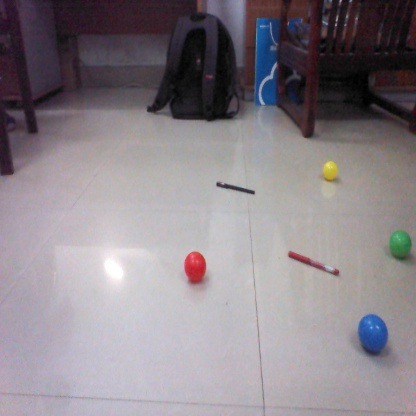ball: (355, 313, 389, 356), (386, 226, 413, 261), (182, 252, 210, 283), (322, 160, 341, 180)
pen: (286, 252, 339, 274), (216, 181, 255, 195)
